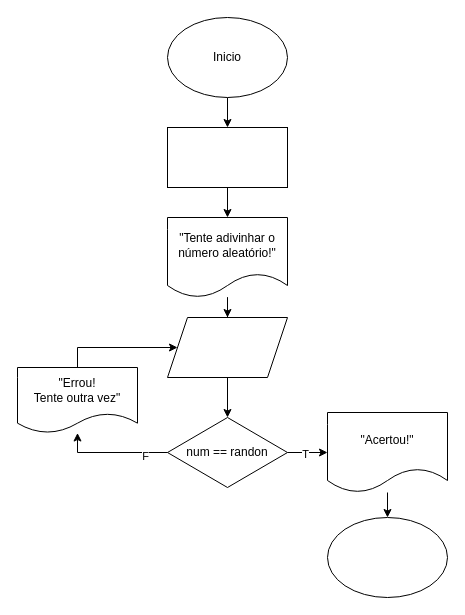
The diagram is 465 pixels wide and 615 high, and some of its shapes have lost their labels. Here are the shapes that lost their labels. From the top down, the centre of each, then its label:
At (227,157): "Randon = [0, 100]".
At (227,347): "num".
At (387,557): "Fim".
